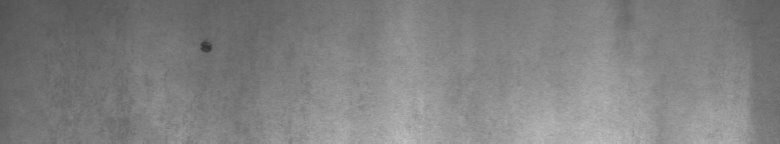fi: (195, 32, 216, 60)
